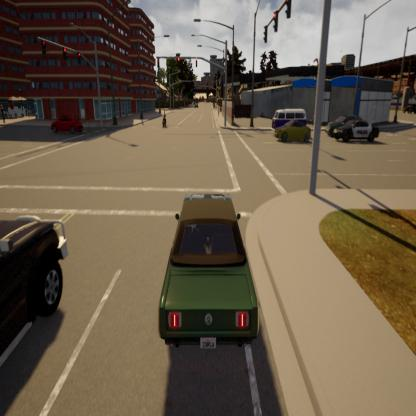Cars: (155, 187, 264, 358), (0, 201, 76, 377), (333, 118, 382, 150), (269, 104, 308, 135), (274, 117, 314, 145), (324, 112, 360, 142), (52, 112, 86, 138)
